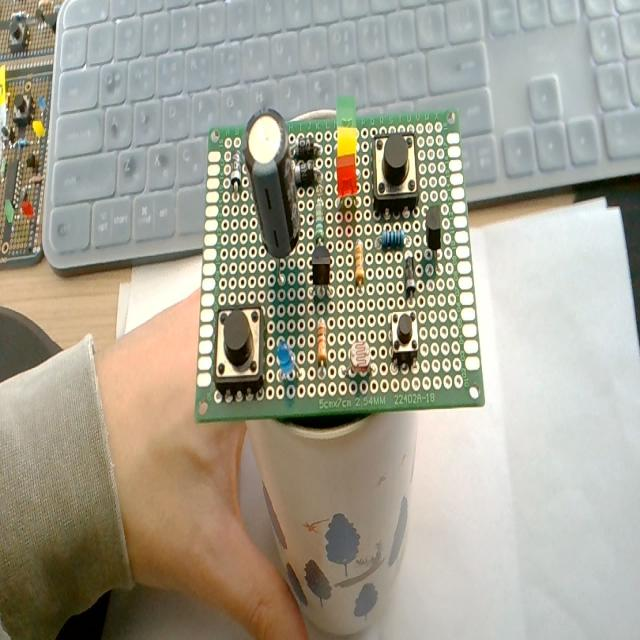Electrolytic capacitor: (242, 107, 302, 290)
cds: (349, 333, 377, 385)
diode: (227, 141, 245, 199), (402, 251, 418, 302)
led: (332, 151, 362, 218), (273, 339, 303, 393)
resistor: (351, 237, 367, 287), (316, 314, 328, 380), (312, 198, 326, 244)
switch: (212, 298, 268, 394), (369, 132, 421, 216), (389, 308, 423, 374)
transistor: (422, 199, 449, 281), (308, 243, 338, 305)
